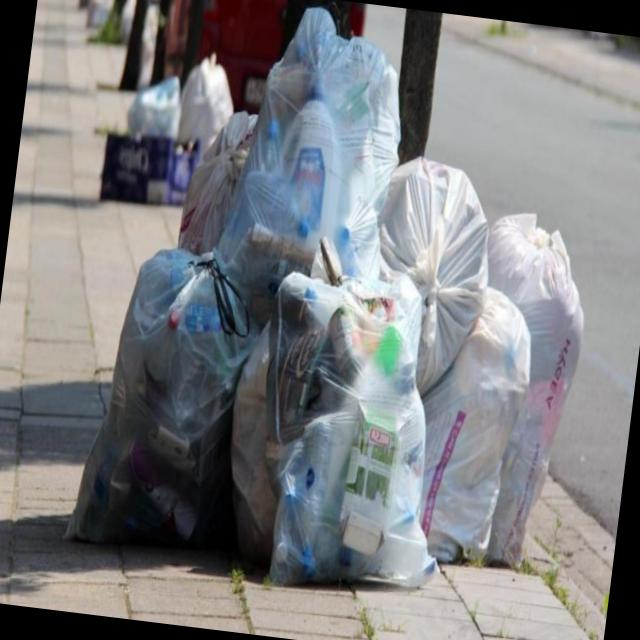garbage: (51, 0, 636, 620)
